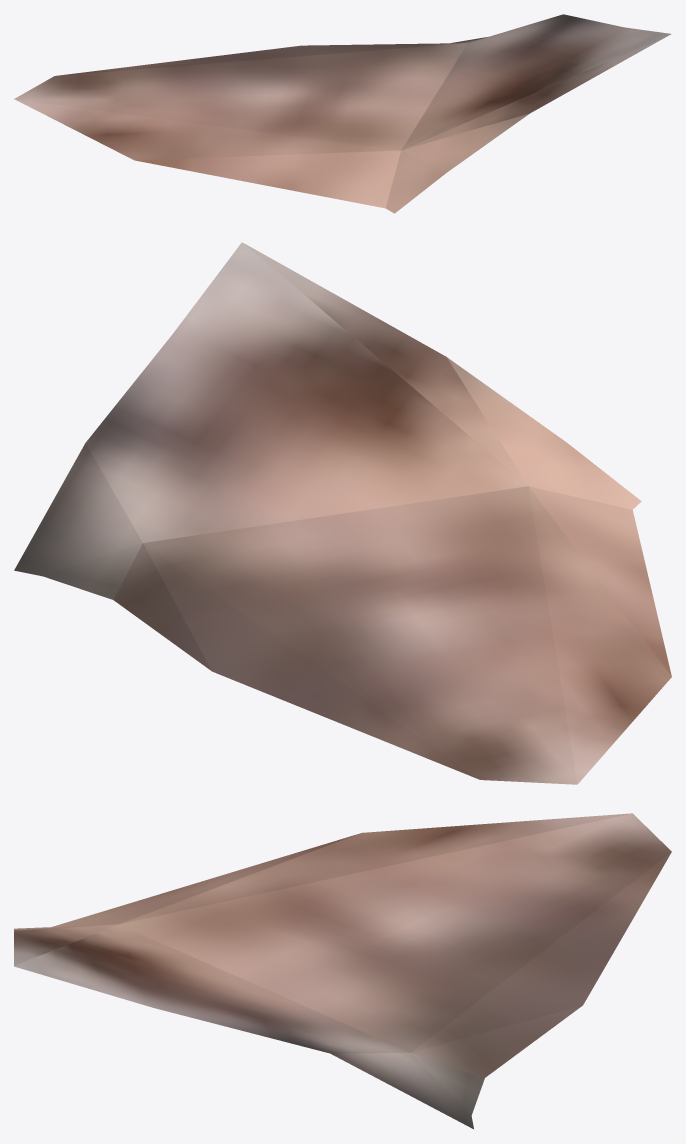
The picture shows the model from 3 angles, top to bottom: view 1: azimuth 30°, elevation 25°; view 2: azimuth 150°, elevation 25°; view 3: azimuth 270°, elevation 25°; orthographic projection. The views are drawn at different scales.
Bounding box in the file's own units: 0.1115 × 0.0268 × 0.098.
Materials: 1 (1 with a texture image).
